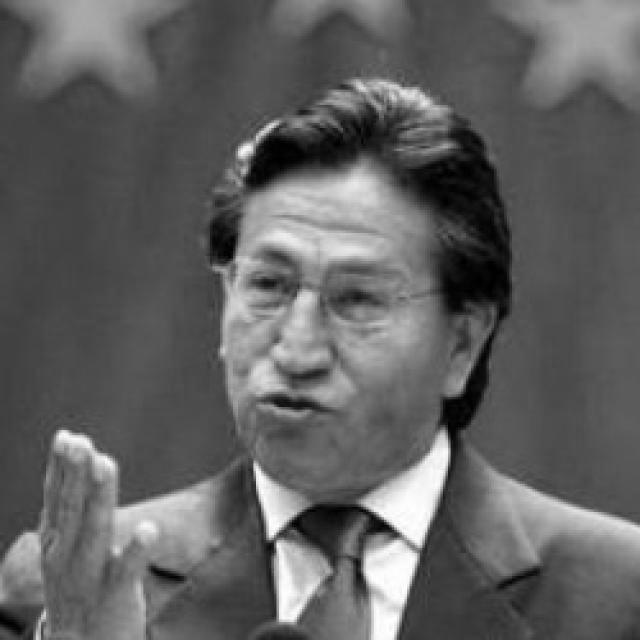real: (216, 168, 466, 496), (247, 252, 404, 324)
